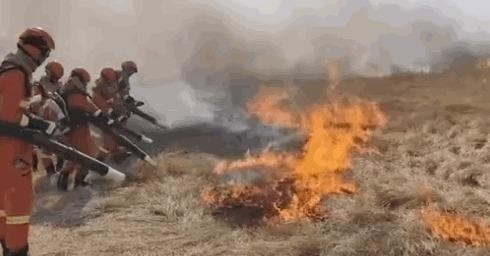fire: (205, 69, 392, 221), (418, 200, 490, 249)
